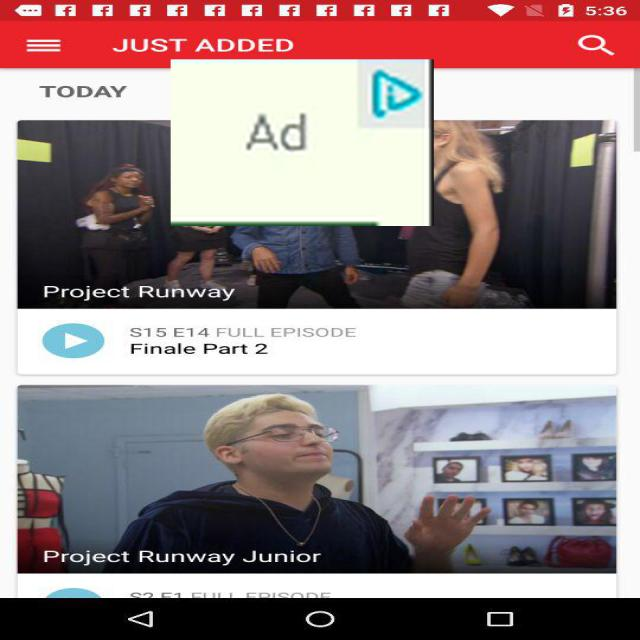sneaking: (170, 59, 434, 226)
